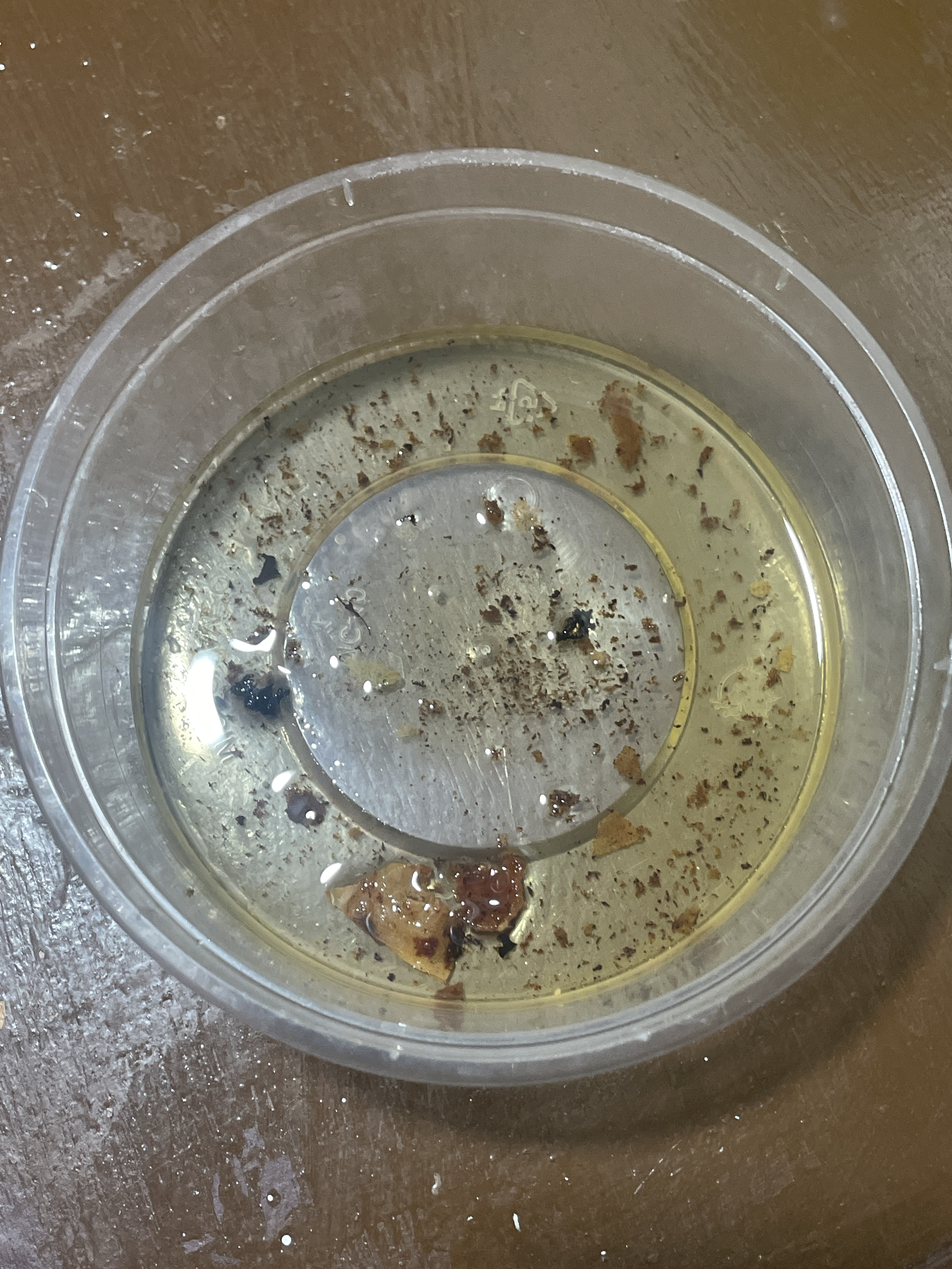non-reusable: (139, 337, 840, 1002)
